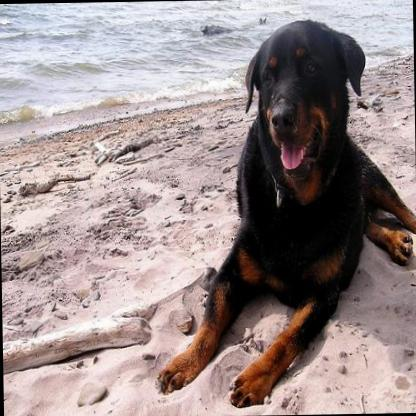Rottweiler: (148, 15, 416, 411)
